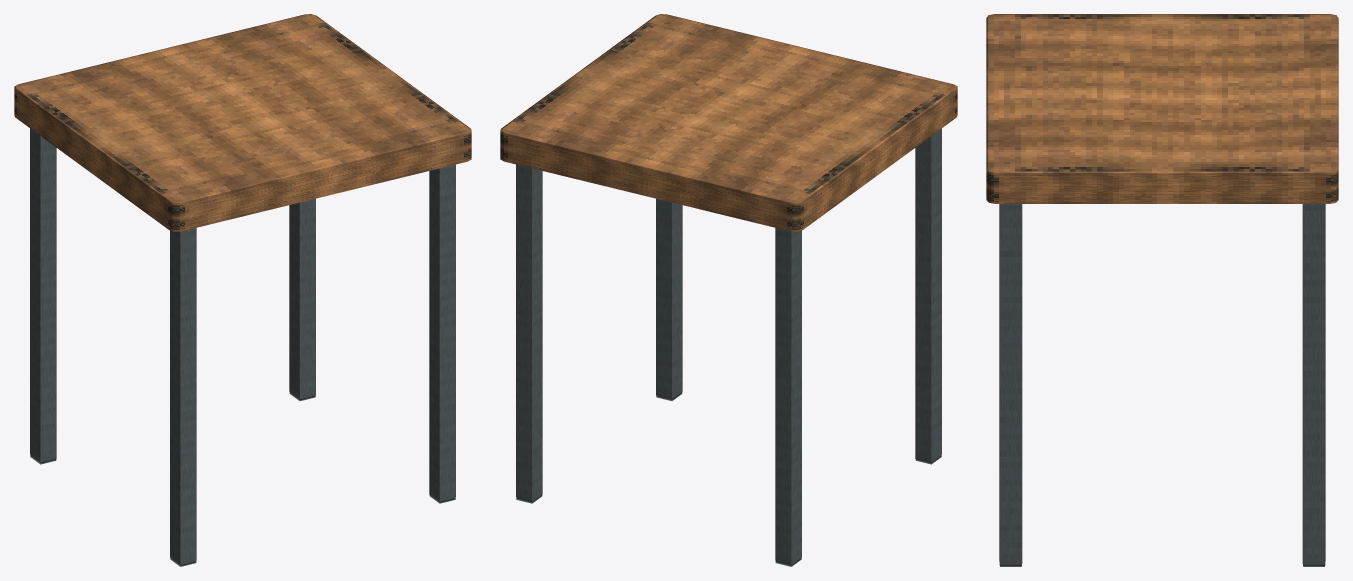
The model's file is end-table.glb.
3 views of the same model, side by side, from view 1: azimuth 30°, elevation 25°; view 2: azimuth 150°, elevation 25°; view 3: azimuth 270°, elevation 25° (orthographic). The views are drawn at different scales.
Visible parts, largest first — view 1: top, leg (×4); view 2: top, leg (×4); view 3: top, leg (×2).
Part boxes in pixels (x1,y1,x2,y2): top: (14,14,471,231); leg (×4): (30,128,455,566); top: (500,14,957,231); leg (×4): (516,128,941,566); top: (986,14,1338,203); leg (×2): (999,204,1325,566).
Bounding box in the file's own units: 0.46 × 0.54 × 0.43.
Materials: 2 (2 with a texture image).
